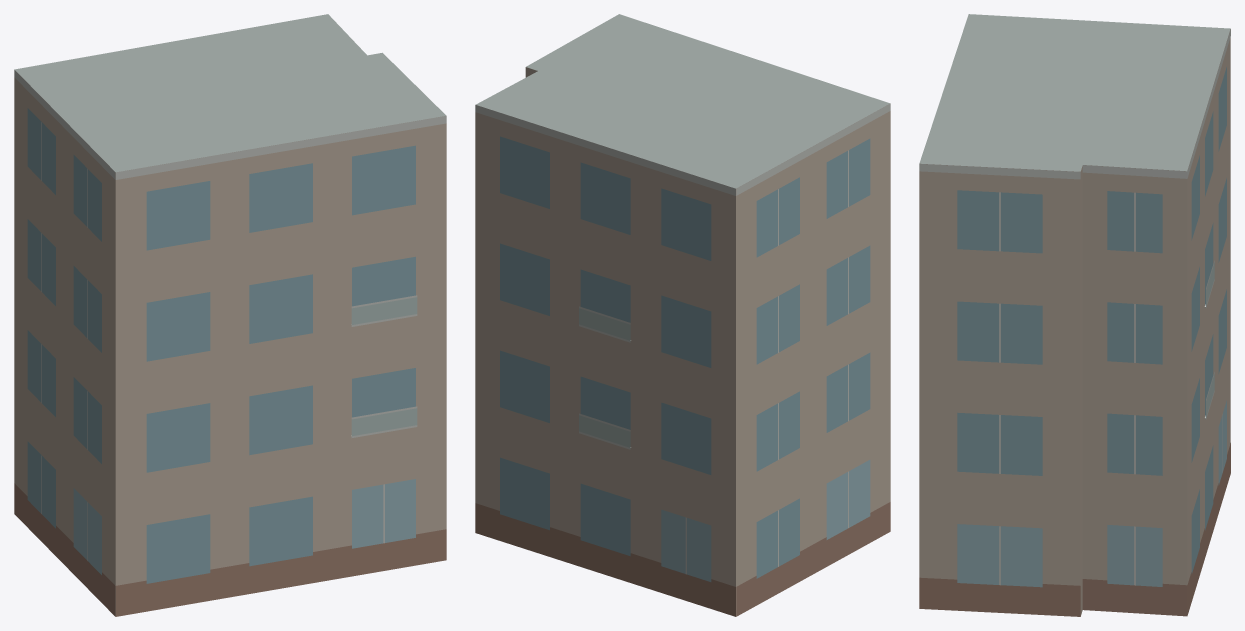
File: survey-upis-32507284.glb
3 views of the same model, side by side, from view 1: azimuth 30°, elevation 25°; view 2: azimuth 150°, elevation 25°; view 3: azimuth 270°, elevation 25° (orthographic). The views are drawn at different scales.
Parts seen in each view (by area): view 1: survey-upis-32507284.tmp; view 2: survey-upis-32507284.tmp; view 3: survey-upis-32507284.tmp.
Boxes of the visible parts, x1=… form: survey-upis-32507284.tmp: x1=14, y1=14, x2=446, y2=616; survey-upis-32507284.tmp: x1=475, y1=14, x2=890, y2=616; survey-upis-32507284.tmp: x1=919, y1=14, x2=1230, y2=616.
Bounding box in the file's own units: 10.73 × 14.1 × 8.95.
